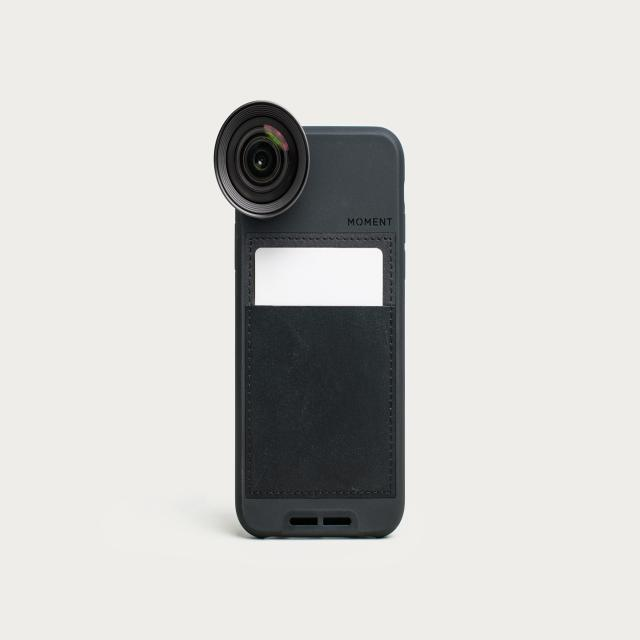hidden camera: (213, 114, 307, 211)
